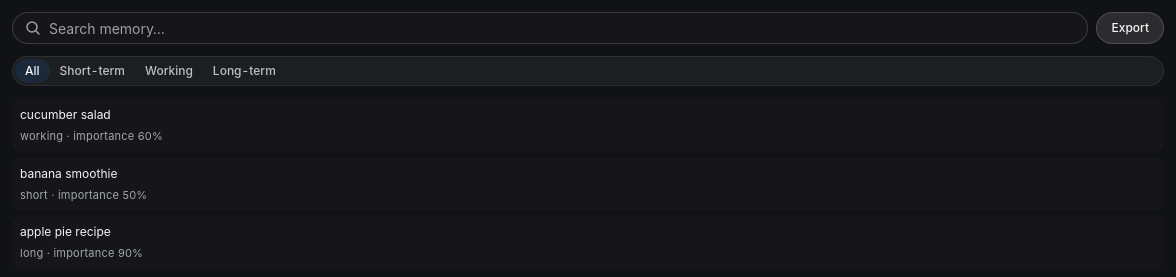
Scenario: MemoryInspector › shows empty state when nothing matches
Step 1. Type "zzz-not-found" into the search field with test id "memory-search" → (562, 28), box [49,18,1076,38]
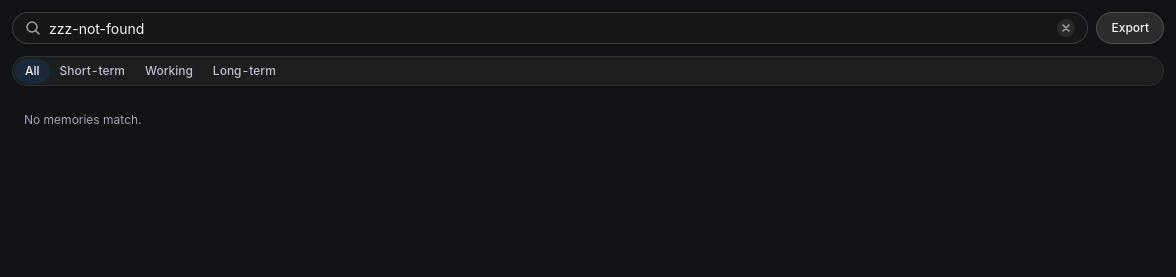
expect the text "No memories match." is shown: met, box [24,112,142,127]
